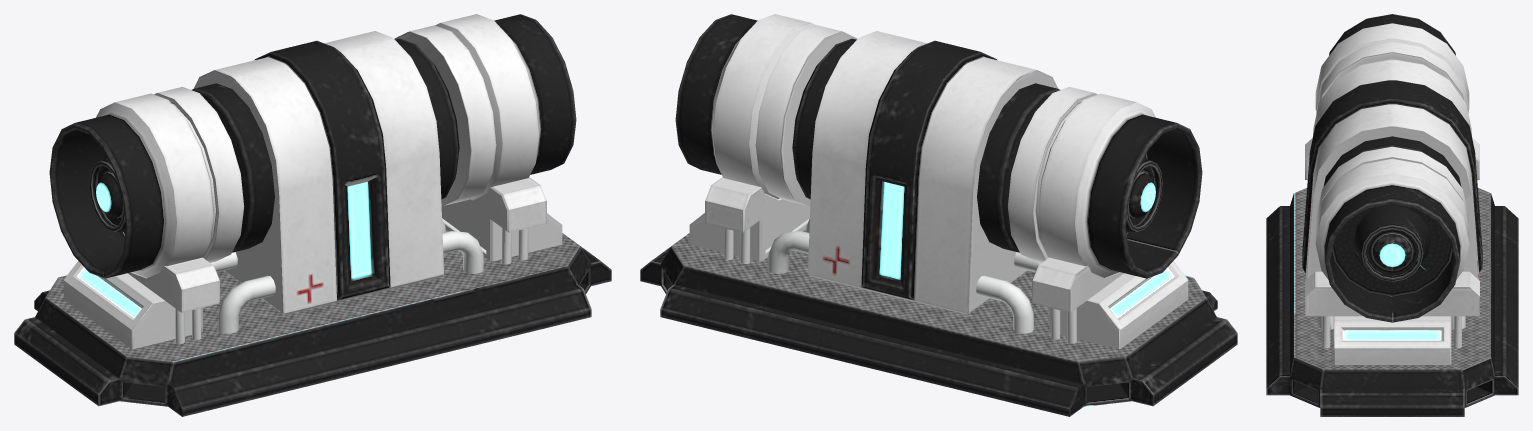
The model's file is Generator.fbx.
3 views of the same model, side by side, from view 1: azimuth 30°, elevation 25°; view 2: azimuth 150°, elevation 25°; view 3: azimuth 270°, elevation 25° (orthographic). The views are drawn at different scales.
Parts seen in each view (by area): view 1: Generator; view 2: Generator; view 3: Generator.
Part boxes in pixels (x1,y1,x2,y2): Generator: (14, 14, 611, 416); Generator: (640, 14, 1237, 416); Generator: (1266, 14, 1518, 416).
Size of the model in its own units: 938 by 451 by 469.
